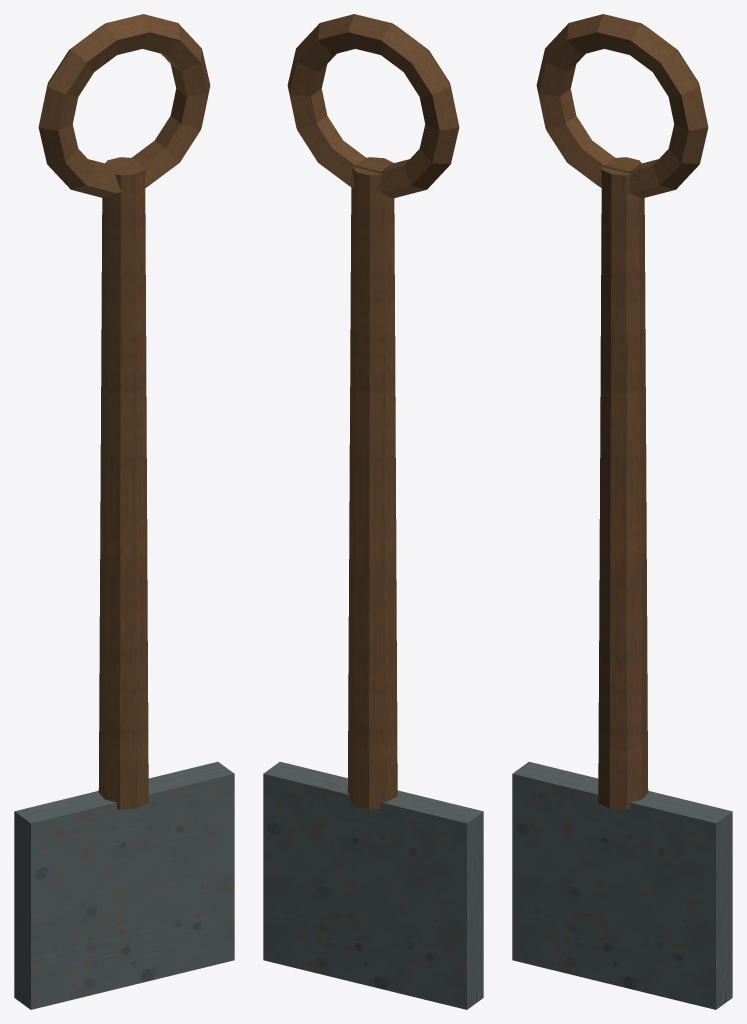
Rendered from ax-tool-004_shovel__clean.obj.
3 renders of one model, left to right at view 1: azimuth 30°, elevation 25°; view 2: azimuth 150°, elevation 25°; view 3: azimuth 330°, elevation 25°, orthographic.
Visible parts, largest first — view 1: ax-tool-004_shovel__clean; view 2: ax-tool-004_shovel__clean; view 3: ax-tool-004_shovel__clean.
Part boxes in pixels (bbox=[...]): ax-tool-004_shovel__clean: bbox=[14, 14, 234, 1009]; ax-tool-004_shovel__clean: bbox=[263, 14, 483, 1009]; ax-tool-004_shovel__clean: bbox=[512, 14, 732, 1009].
Size of the model in its own units: 0.32 by 1.44 by 0.0679.
2 materials, 2 textured.
